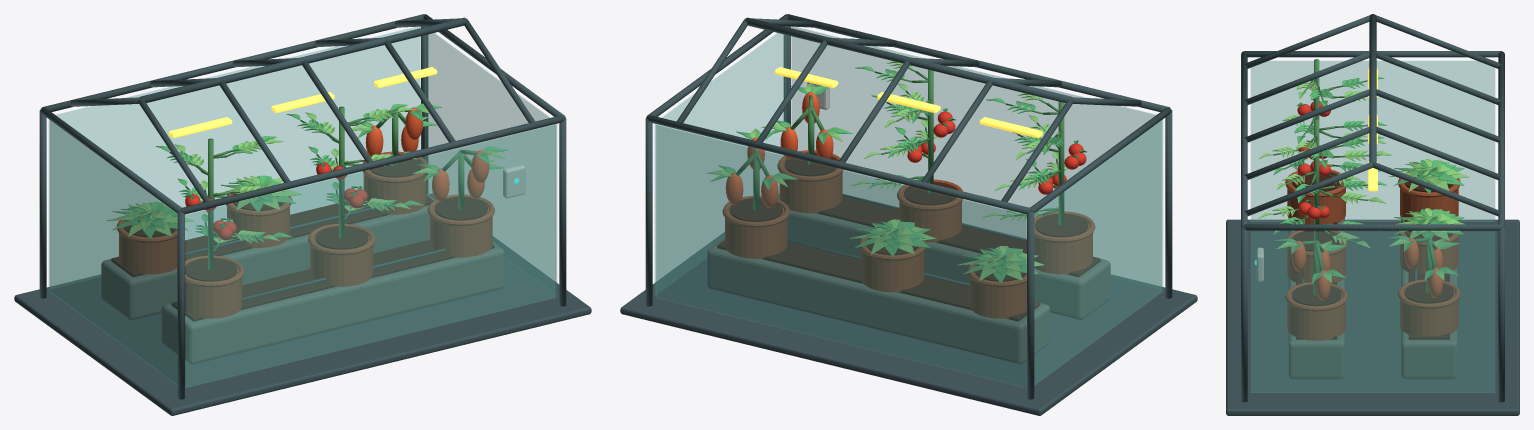
The model's file is smart-greenhouse-hero.glb.
3 views of the same model, side by side, from view 1: azimuth 30°, elevation 25°; view 2: azimuth 150°, elevation 25°; view 3: azimuth 270°, elevation 25° (orthographic). The views are drawn at different scales.
Parts seen in each view (by area): view 1: Tempered glass wall, Tempered glass wall.001, Foundation, Tempered glass end, Tempered glass end.001, Hydroponic growing bed, Hydroponic growing bed.001, Soil in growing bed, Top side frame, Roof ridge, Top side frame.001, Soil in growing bed.001 (+29 smaller); view 2: Tempered glass wall.001, Tempered glass wall, Foundation, Tempered glass end, Tempered glass end.001, Hydroponic growing bed.001, Hydroponic growing bed, Soil in growing bed.001, Top side frame.001, Soil in growing bed, Roof ridge, Top side frame (+27 smaller); view 3: Tempered glass end.001, Foundation, Tempered glass end, Hydroponic growing bed.001, Hydroponic growing bed, Top end frame.001, Terracotta pot.002, Terracotta pot.005, Top end frame, Vertical aluminium frame.002, Vertical aluminium frame.003, Top side frame (+30 smaller).
Part boxes in pixels (left/top/right/bottom): Tempered glass wall: left=185, top=125, right=555, bottom=387; Tempered glass wall.001: left=50, top=27, right=420, bottom=288; Foundation: left=14, top=193, right=591, bottom=415; Tempered glass end: left=49, top=120, right=177, bottom=384; Tempered glass end.001: left=425, top=26, right=556, bottom=295; Hydroponic growing bed: left=161, top=242, right=504, bottom=364; Hydroponic growing bed.001: left=101, top=194, right=434, bottom=320; Soil in growing bed: left=171, top=240, right=494, bottom=321; Top side frame: left=181, top=115, right=564, bottom=214; Roof ridge: left=139, top=17, right=466, bottom=102; Top side frame.001: left=42, top=14, right=424, bottom=111; Soil in growing bed.001: left=111, top=196, right=433, bottom=276; Tempered glass wall.001: left=656, top=125, right=1026, bottom=387; Tempered glass wall: left=791, top=27, right=1161, bottom=288; Foundation: left=620, top=194, right=1197, bottom=415; Tempered glass end: left=1034, top=120, right=1162, bottom=384; Tempered glass end.001: left=655, top=26, right=786, bottom=295; Hydroponic growing bed.001: left=707, top=238, right=1050, bottom=364; Hydroponic growing bed: left=778, top=198, right=1110, bottom=320; Soil in growing bed.001: left=717, top=240, right=1040, bottom=321; Top side frame.001: left=647, top=115, right=1030, bottom=214; Soil in growing bed: left=816, top=197, right=1100, bottom=276; Roof ridge: left=745, top=17, right=1072, bottom=102; Top side frame: left=787, top=14, right=1169, bottom=111; Tempered glass end.001: left=1251, top=232, right=1494, bottom=392; Foundation: left=1226, top=219, right=1519, bottom=415; Tempered glass end: left=1251, top=61, right=1494, bottom=221; Hydroponic growing bed.001: left=1401, top=219, right=1457, bottom=379; Hydroponic growing bed: left=1288, top=218, right=1344, bottom=379; Top end frame.001: left=1244, top=224, right=1501, bottom=230; Terracotta pot.002: left=1287, top=292, right=1345, bottom=340; Terracotta pot.005: left=1400, top=289, right=1458, bottom=336; Top end frame: left=1244, top=51, right=1501, bottom=57; Vertical aluminium frame.002: left=1241, top=227, right=1247, bottom=402; Vertical aluminium frame.003: left=1498, top=227, right=1504, bottom=402; Top side frame: left=1241, top=51, right=1247, bottom=227.
Bounding box in the file's own units: 7.4 × 4.21 × 4.8.
